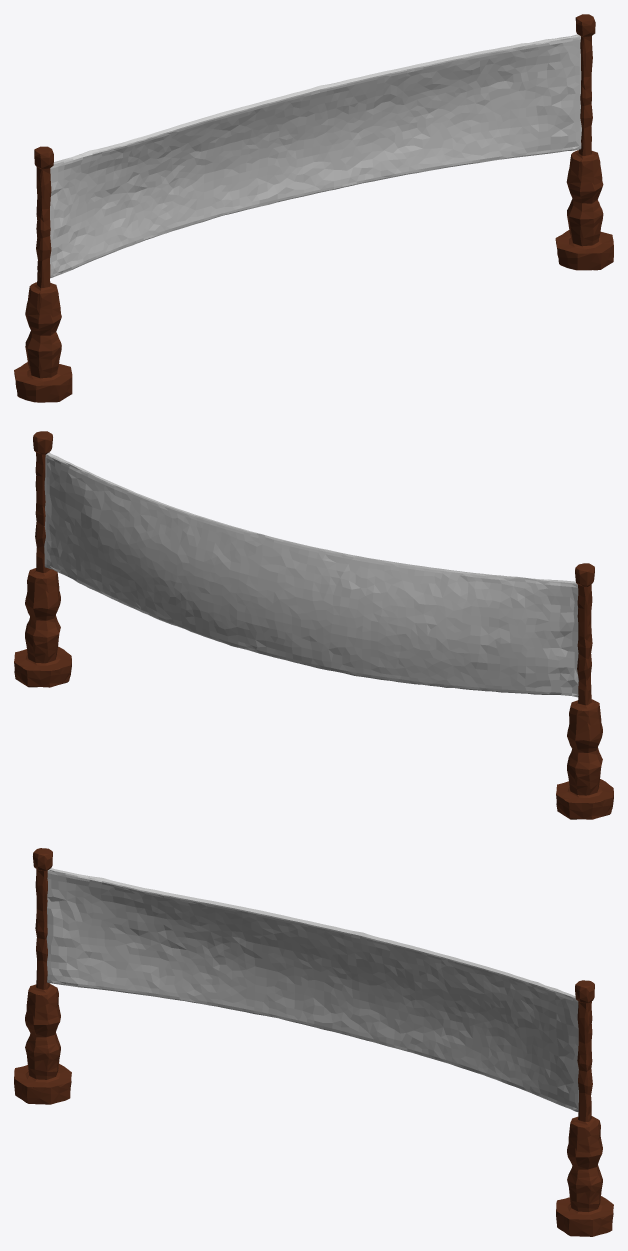
Rendered from DesertLandSnakeFlag0176.obj.
3 renders of one model, top to bottom at view 1: azimuth 30°, elevation 25°; view 2: azimuth 150°, elevation 25°; view 3: azimuth 330°, elevation 25°, orthographic.
Parts seen in each view (by area): view 1: Cube.003, Cube, Cube.002; view 2: Cube.003, Cube, Cube.002; view 3: Cube.003, Cube.002, Cube.
Boxes of the visible parts, <box> form: Cube.003: <box>50,34,581,277</box>; Cube: <box>14,146,72,402</box>; Cube.002: <box>555,14,613,270</box>; Cube.003: <box>44,452,578,697</box>; Cube: <box>556,563,613,819</box>; Cube.002: <box>14,431,71,687</box>; Cube.003: <box>46,868,578,1112</box>; Cube.002: <box>556,980,613,1236</box>; Cube: <box>14,848,71,1104</box>.
Size of the model in its own units: 27.57 by 10.7 by 3.81.
